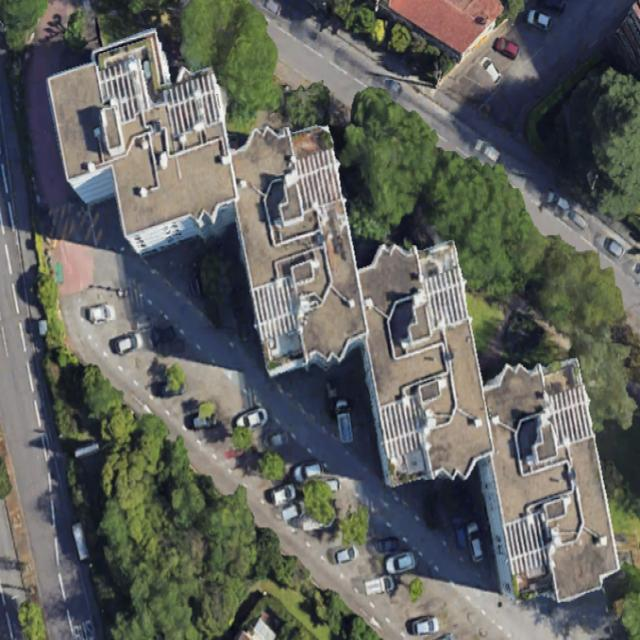immeuble: (29, 14, 261, 270), (462, 352, 623, 612), (221, 116, 372, 377), (346, 233, 497, 490)
